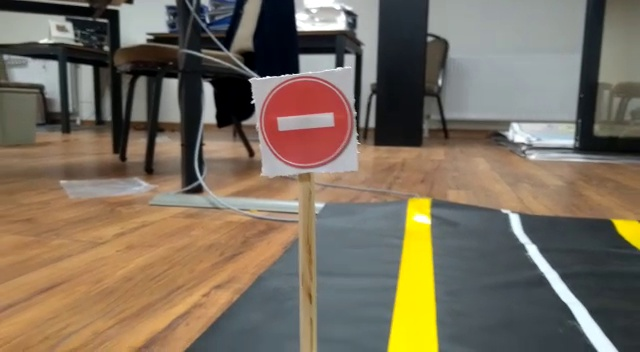girisi_olmayan_yol: (258, 72, 360, 174)
